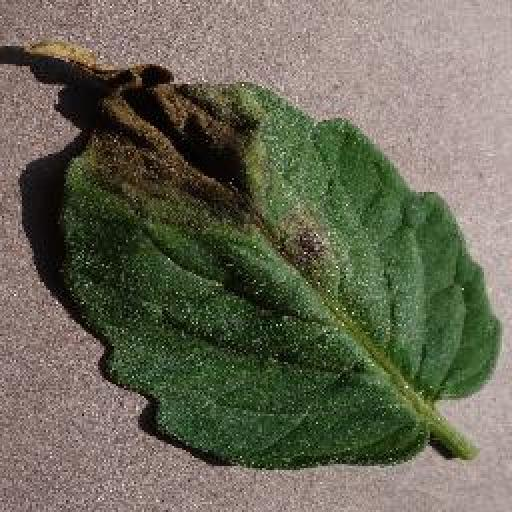disease_tomato: (2, 41, 502, 471)
